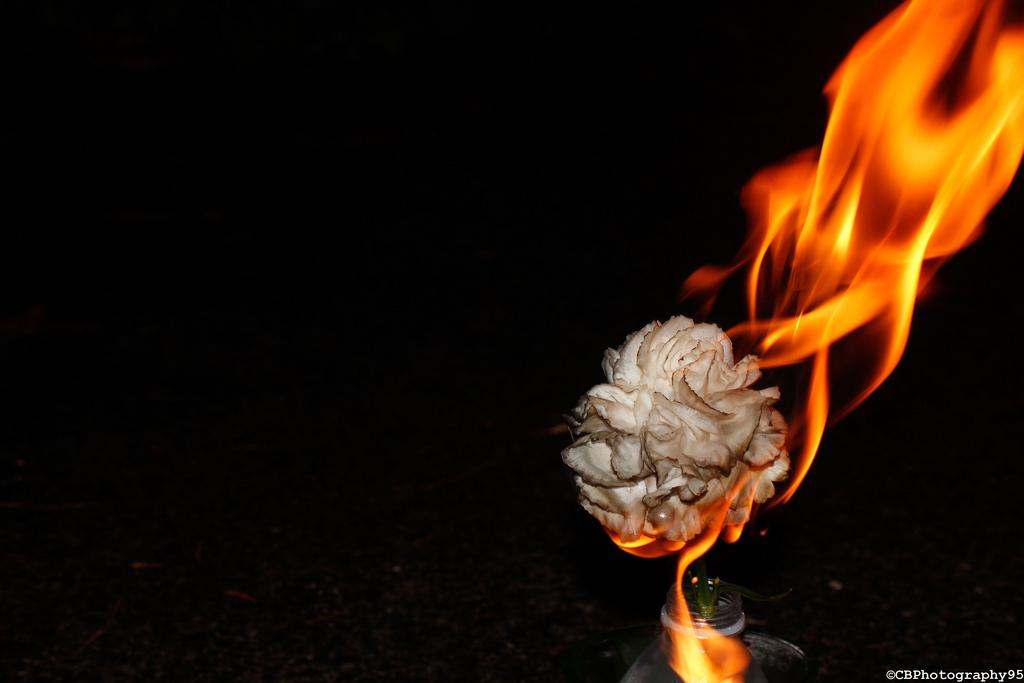fire: (833, 7, 1015, 258), (777, 268, 888, 393)
